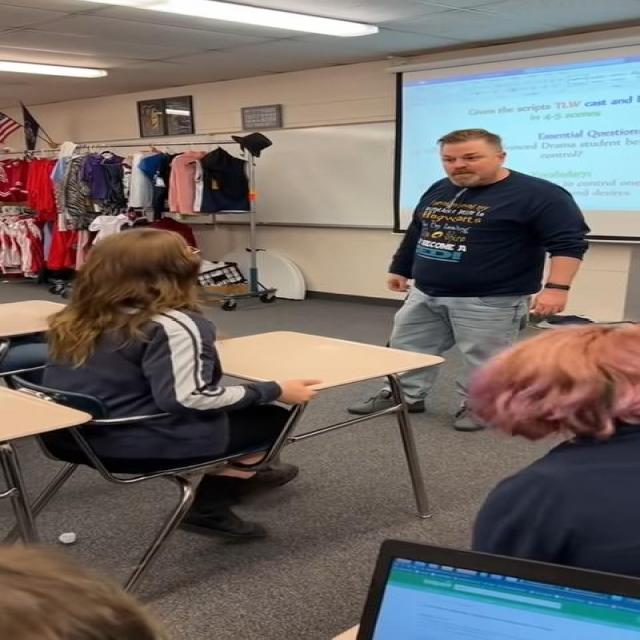NO-Mask: (436, 134, 506, 183)
